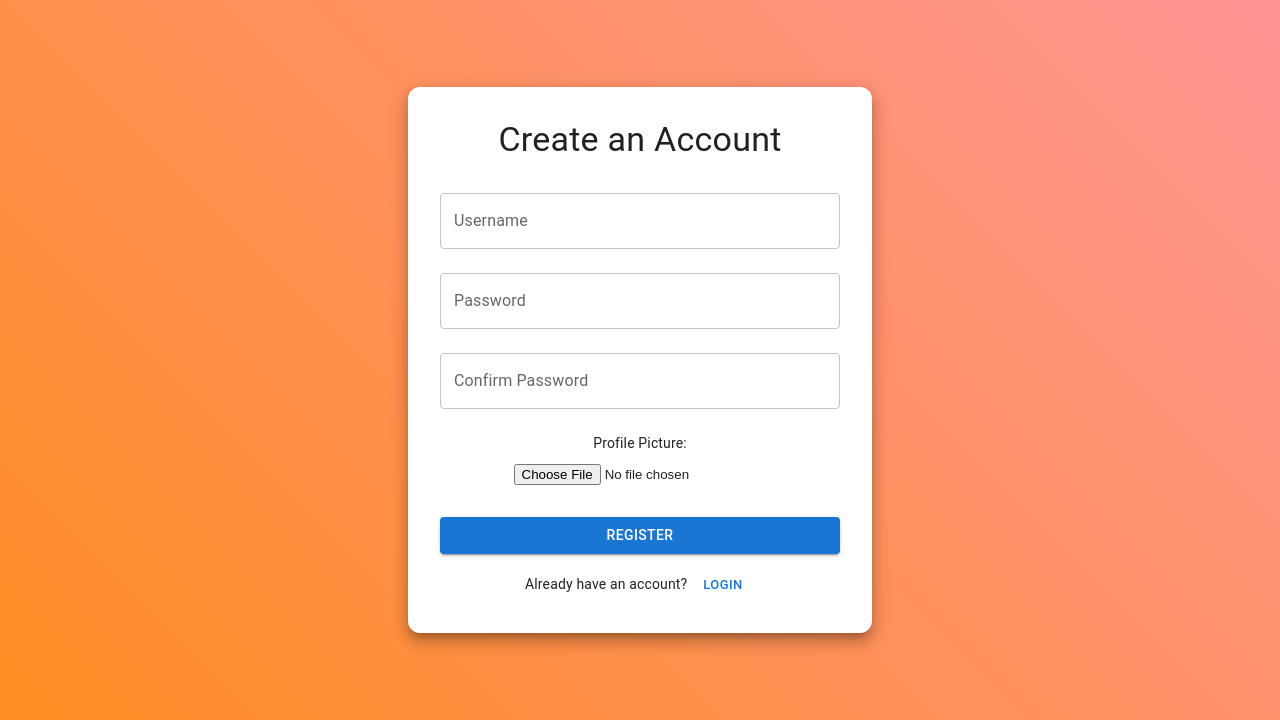
Registration Component › handles failed registration
Note: Fill form with valid data
In the field labelled "Username": x=640, y=221 left=440, top=193, right=840, bottom=249, type "existinguser"
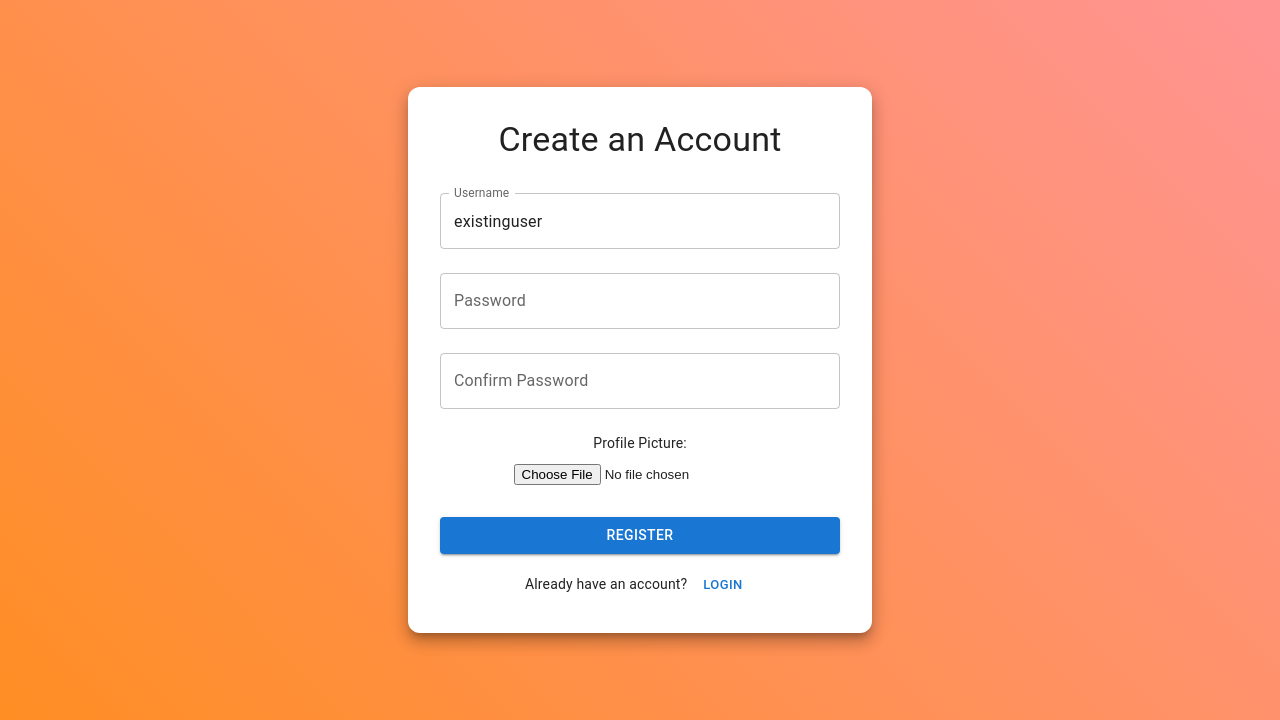
In the password field labelled "Password": x=640, y=301 left=440, top=273, right=840, bottom=329, type "123456"
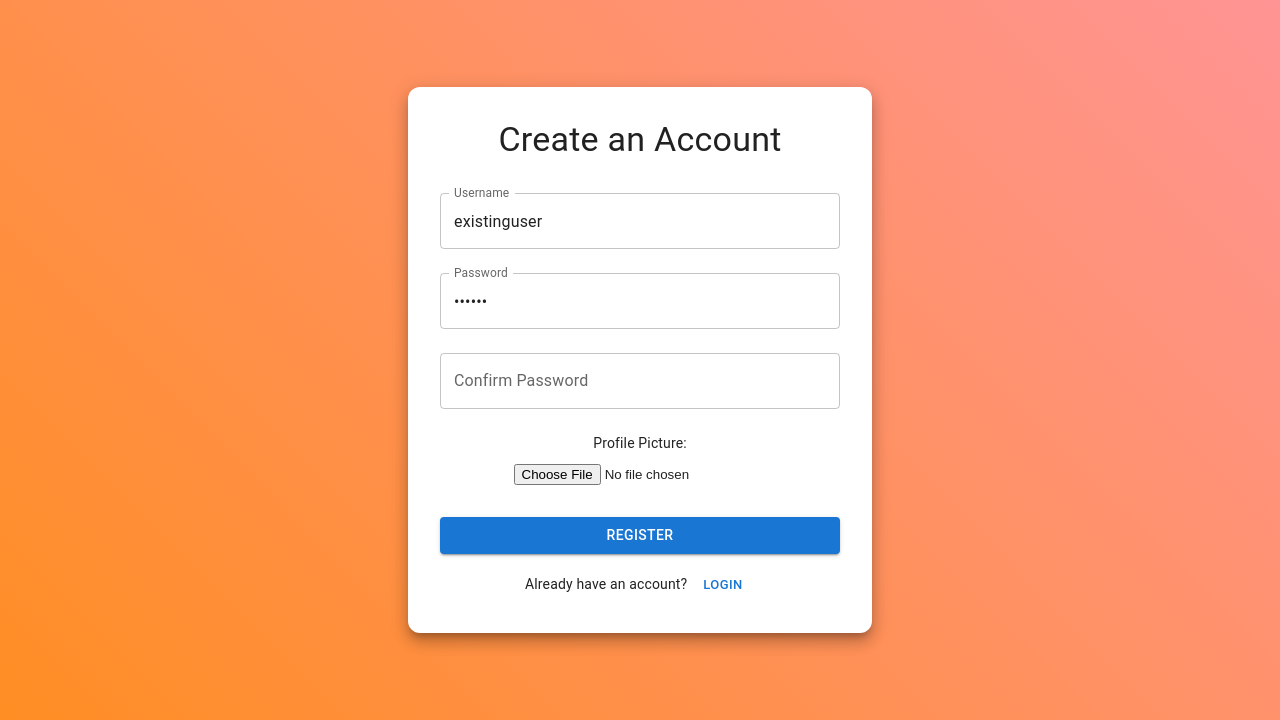
In the password field labelled "Confirm Password": x=640, y=381 left=440, top=353, right=840, bottom=409, type "123456"
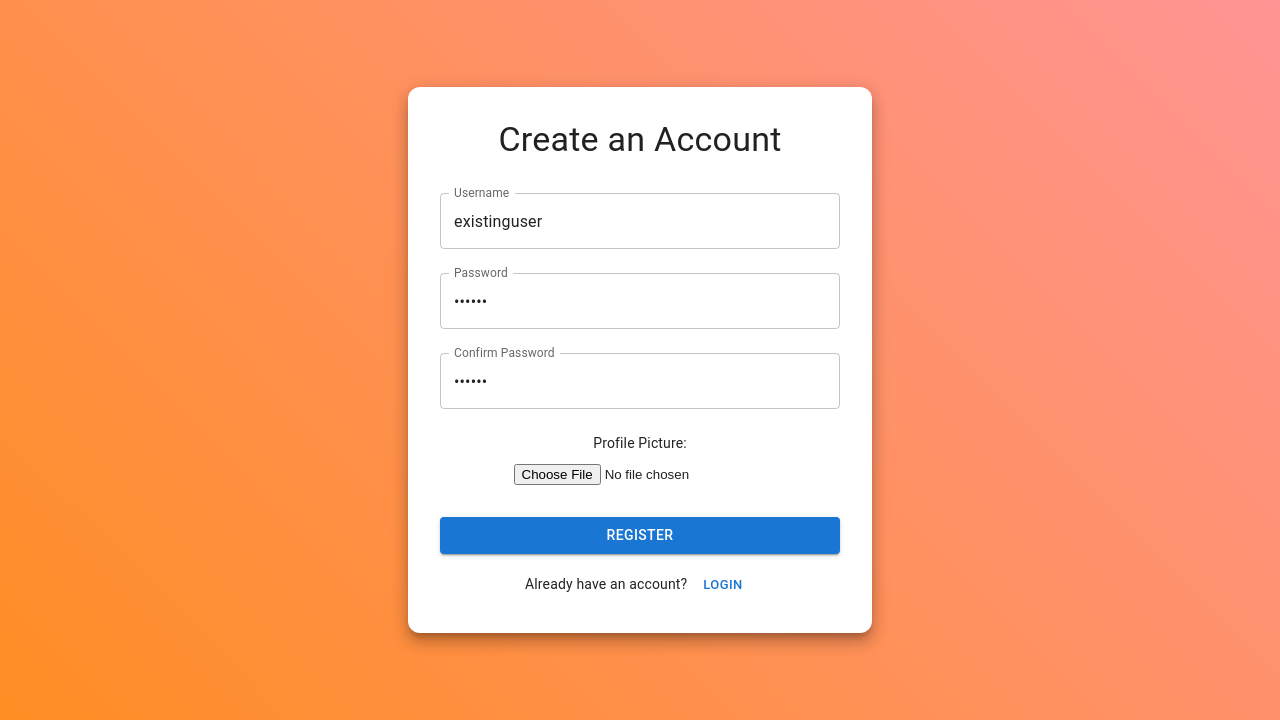
Note: Submit the form
Click the button "Register": x=640, y=536 left=440, top=517, right=840, bottom=554
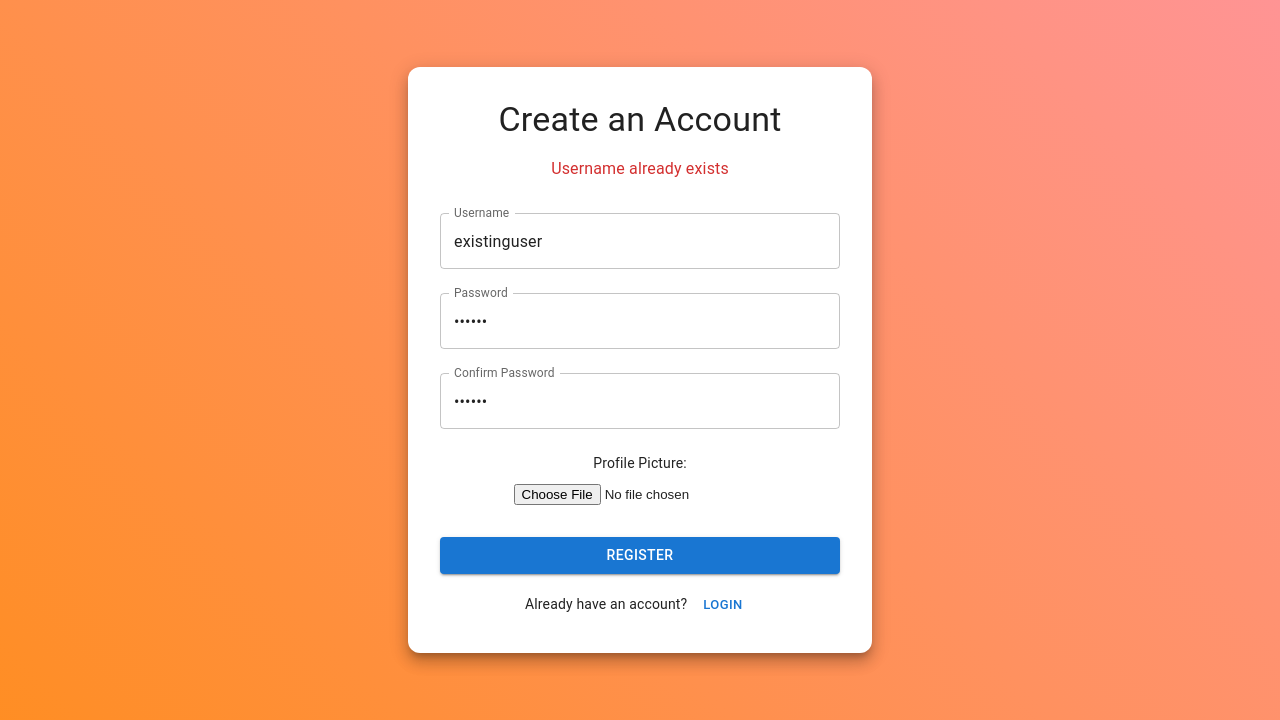
expect the text "Username already exists" is shown: met, box left=551, top=159, right=729, bottom=178
